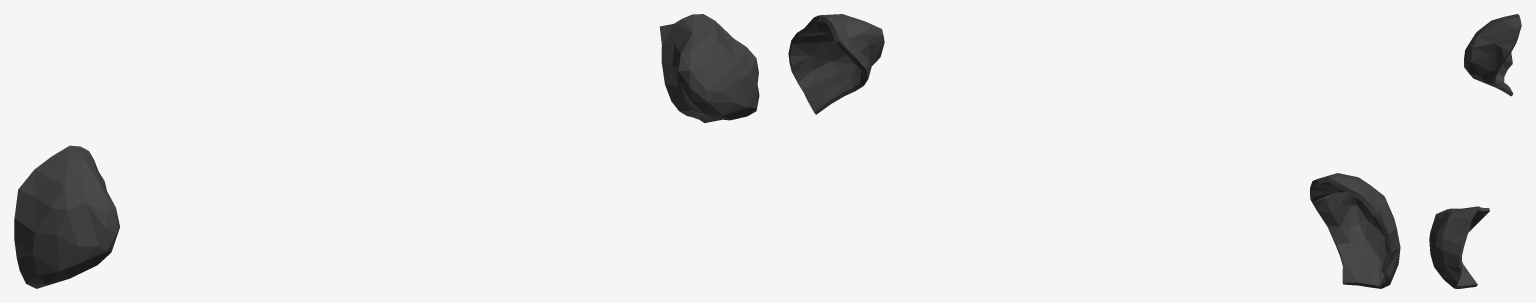
File: t6_mamillary_process.glb
The picture shows the model from 3 angles, left to right: view 1: azimuth 30°, elevation 25°; view 2: azimuth 150°, elevation 25°; view 3: azimuth 270°, elevation 25°; orthographic projection. The views are drawn at different scales.
Parts seen in each view (by area): view 1: t6_mamillary_process; view 2: t6_mamillary_process; view 3: t6_mamillary_process.
Part boxes in pixels (box(x1,y1,x2,y2)): t6_mamillary_process: box(14, 14, 759, 288); t6_mamillary_process: box(788, 14, 1400, 288); t6_mamillary_process: box(1429, 14, 1521, 288).
Size of the model in its own units: 33.77 by 6.06 by 5.6.
Materials: 1 (1 with a texture image).
